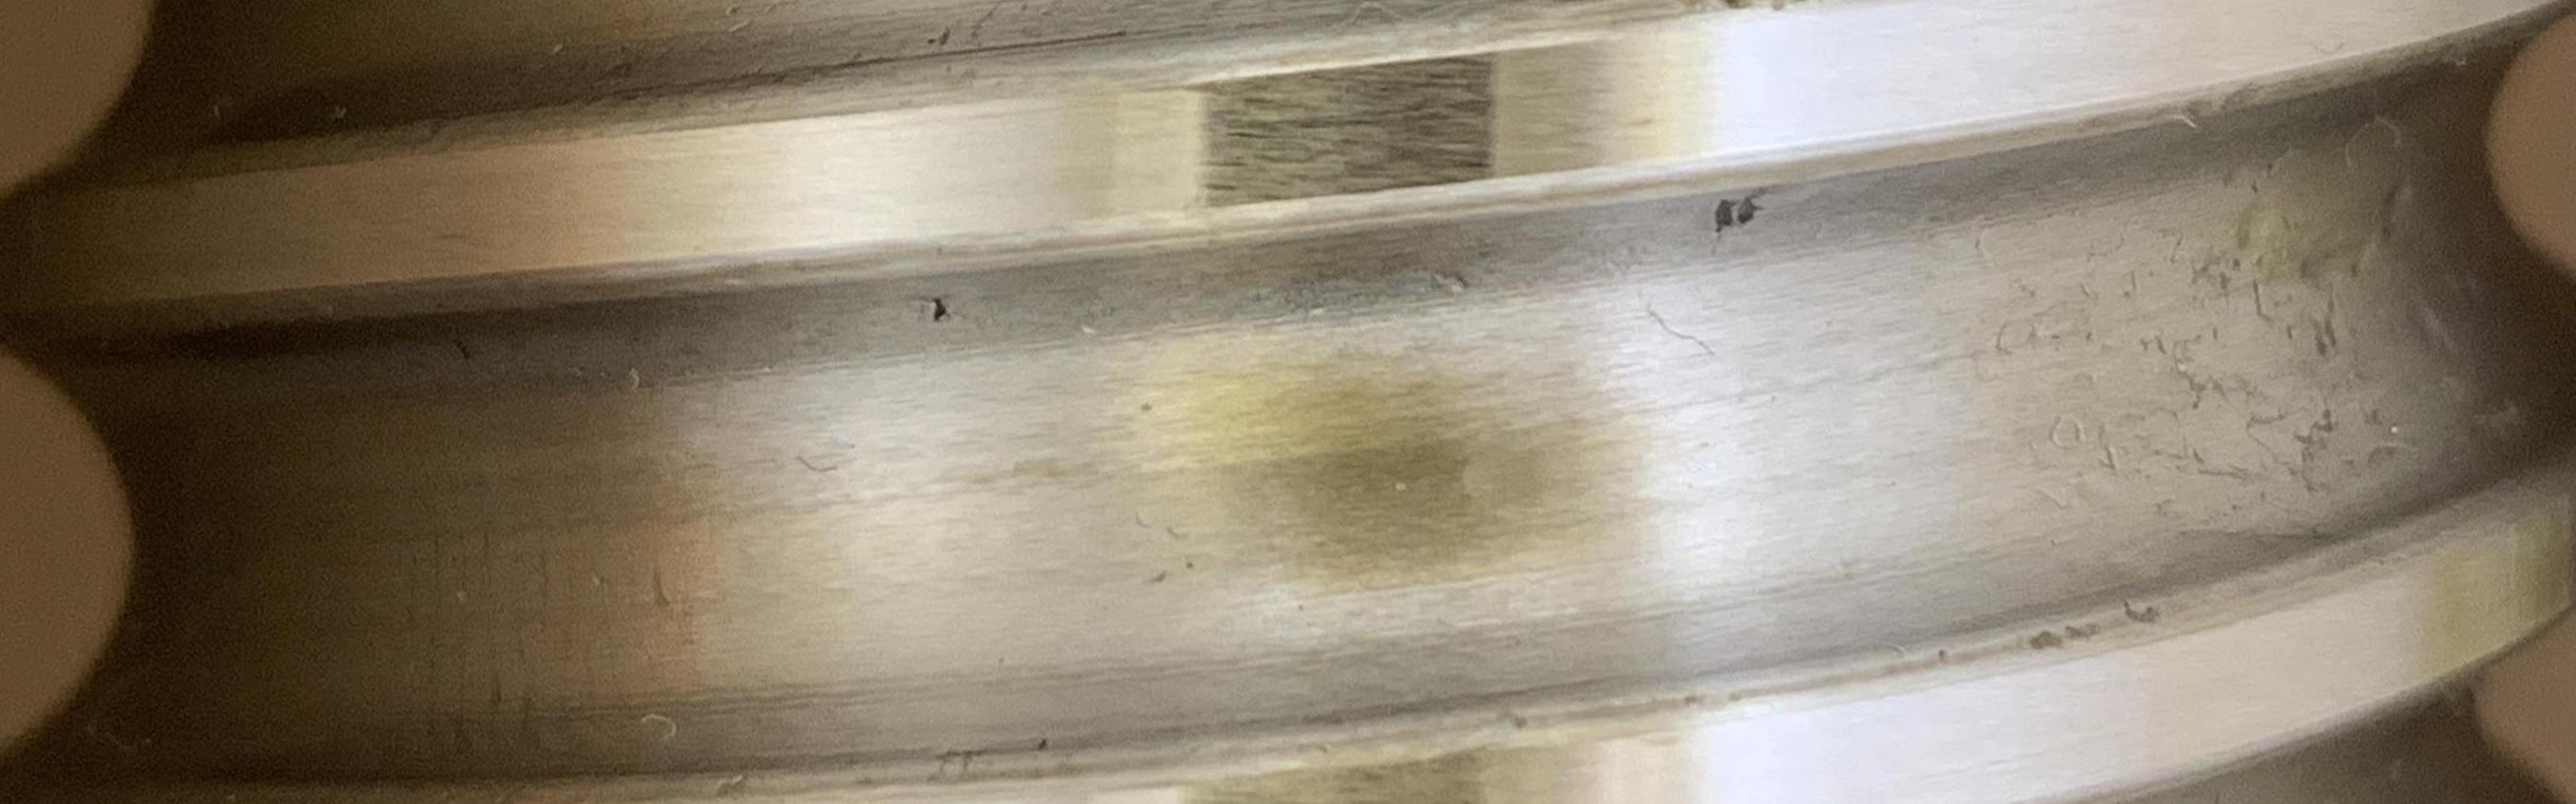pitting: (1712, 199, 1736, 233), (1736, 196, 1763, 224), (931, 298, 946, 319)
